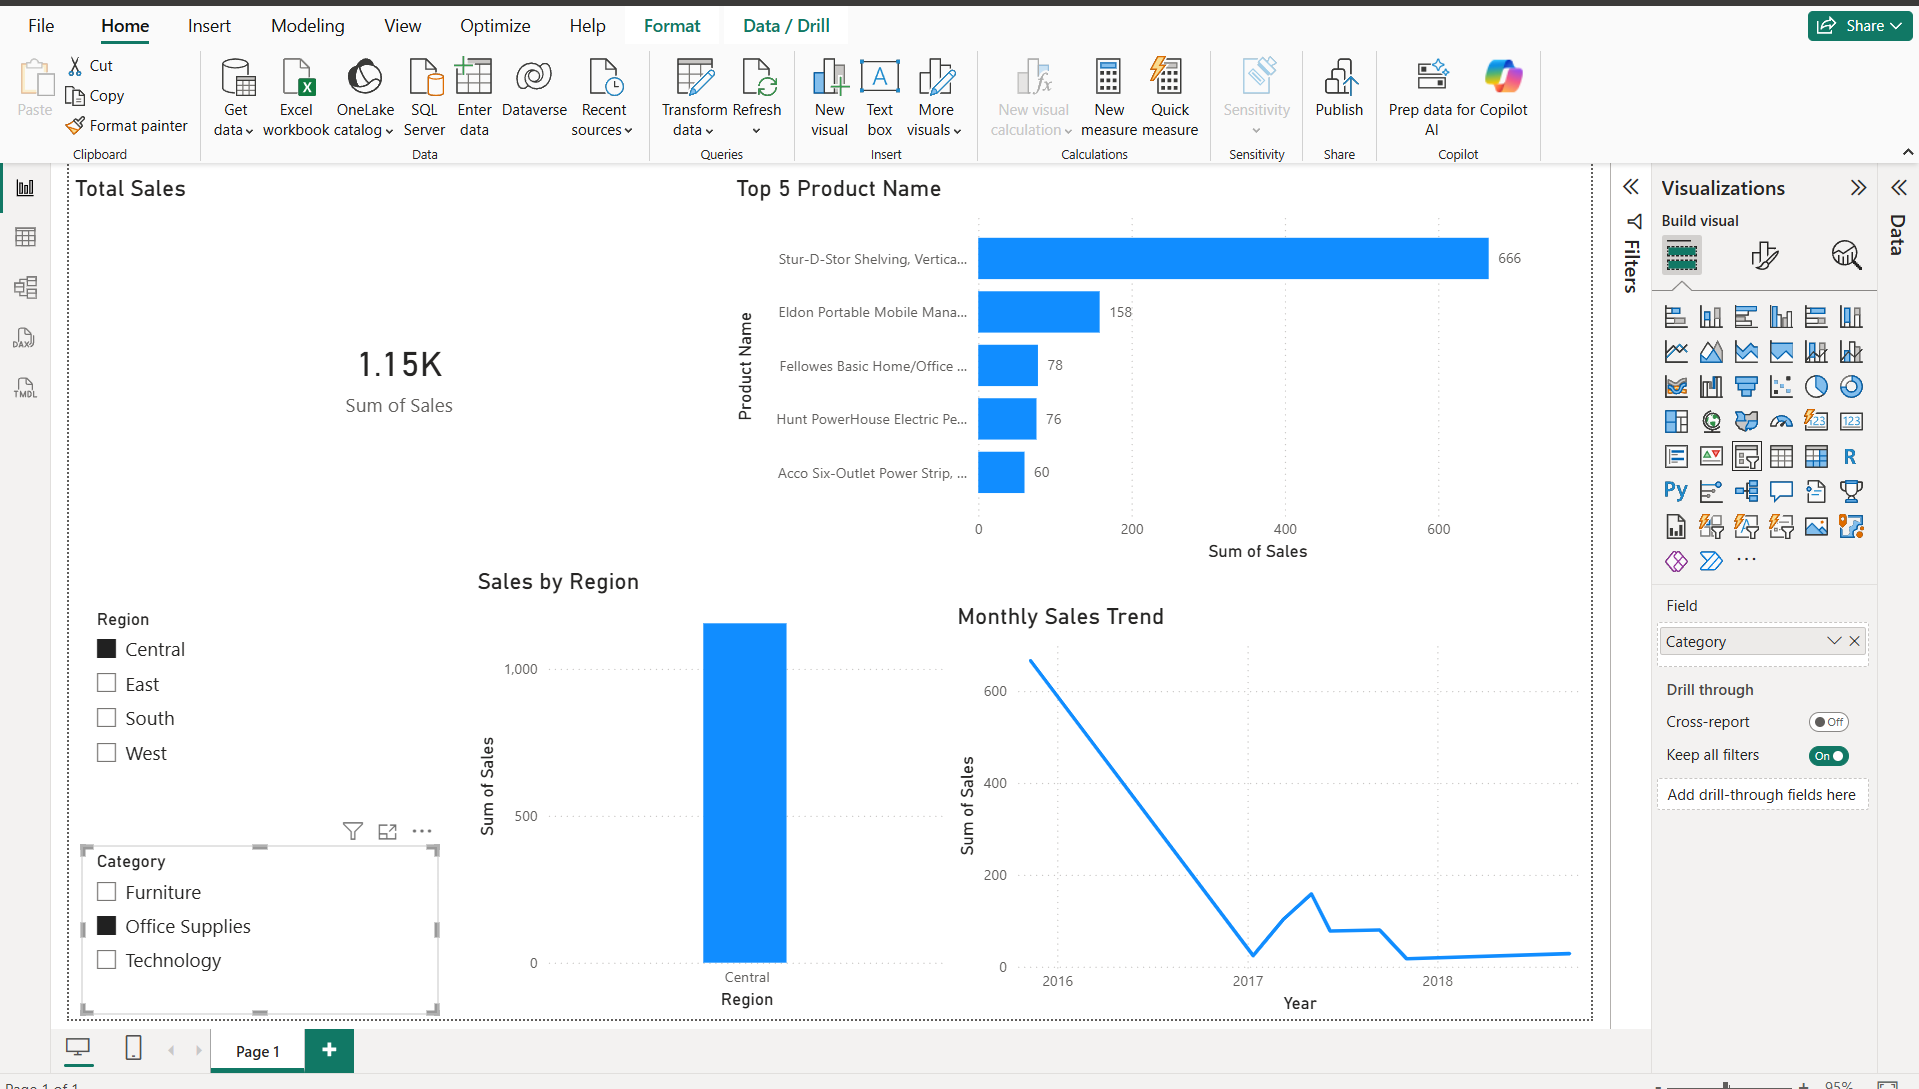

The dashboard page shown, as its layout file describes it:
{"tool":"powerbi","page":{"name":"Page 1","canvas":[1280,720],"ordinal":0},"visuals":[{"type":"card","title":"Total Sales","fields":{"Values":["Sum(sales_data.Sales)"]},"box":[0,11,555.7,314.2],"z":0},{"type":"clusteredColumnChart","title":"Sales by Region","fields":{"Category":["sales_data.Region"],"Y":["Sum(sales_data.Sales)"]},"box":[338.9,340.3,403.4,376],"z":1000},{"type":"barChart","title":"Top 5 Product Name","fields":{"Y":["Sum(sales_data.Sales)"],"Category":["sales_data.Product Name"]},"box":[555.7,11,694.3,329.3],"z":2000},{"type":"lineChart","title":"Monthly Sales Trend","fields":{"Category":["sales_data.Order Date - clean.Variation.Date Hierarchy.Year","sales_data.Order Date - clean.Variation.Date Hierarchy.Quarter","sales_data.Order Date - clean.Variation.Date Hierarchy.Month","sales_data.Order Date - clean.Variation.Date Hierarchy.Day"],"Y":["Sum(sales_data.Sales)"]},"box":[742.4,370.5,537.9,349.9],"z":3000},{"type":"slicer","fields":{"Values":["sales_data.Region"]},"box":[11,370.5,299.1,175.6],"z":3001},{"type":"slicer","fields":{"Values":["sales_data.Category"]},"box":[11,573.6,299.1,142.7],"z":3002}]}

Visuals, with their boxes on the page's 1280x720 design canvas (x1, y1, x2, y2). These are canvas units, not pixel positions in the 1919x1089 screenshot, which may show the page scaled, cropped or inside an application window:
"Total Sales" card: (left=0, top=11, right=556, bottom=325)
"Sales by Region" clusteredColumnChart: (left=339, top=340, right=742, bottom=716)
"Top 5 Product Name" barChart: (left=556, top=11, right=1250, bottom=340)
"Monthly Sales Trend" lineChart: (left=742, top=370, right=1280, bottom=720)
slicer - sales_data.Region: (left=11, top=370, right=310, bottom=546)
slicer - sales_data.Category: (left=11, top=574, right=310, bottom=716)
